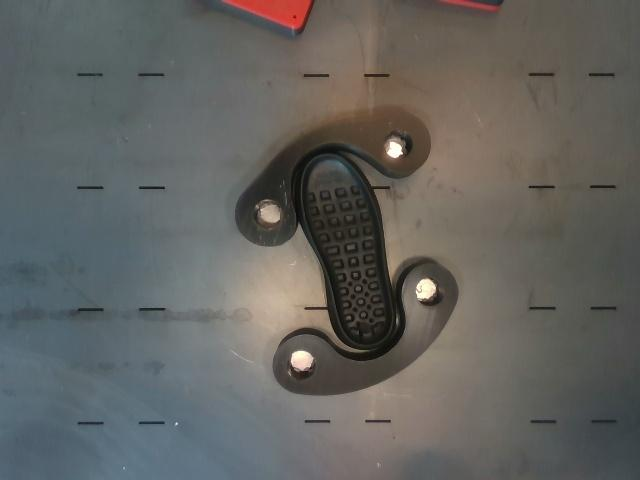shoes: (301, 154, 393, 345)
